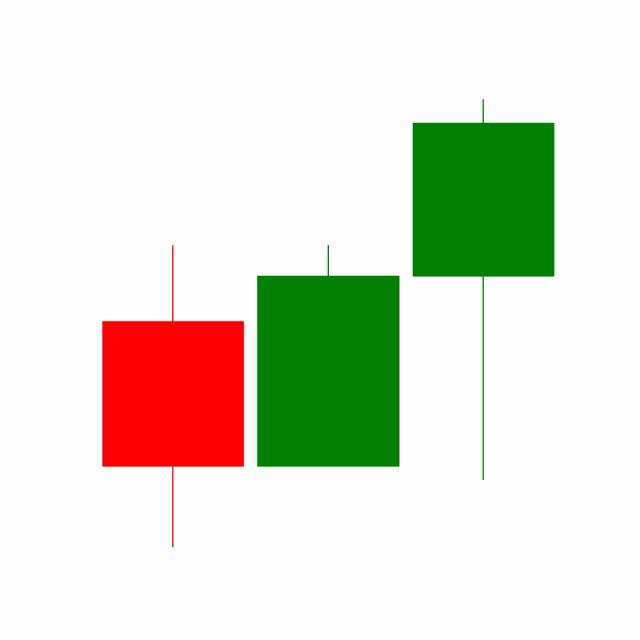Hanging Man: (405, 94, 561, 484)
